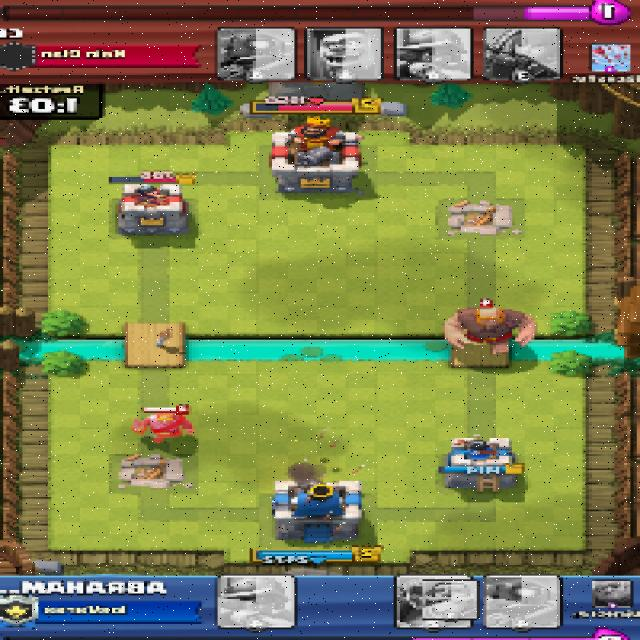Enemy-Giant: (442, 308, 542, 355)
Enemy-Knight: (134, 411, 198, 444)
